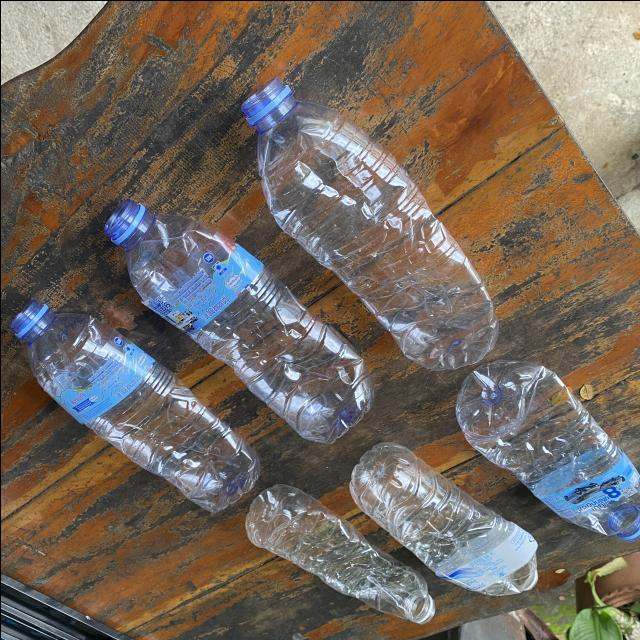plastik: (241, 78, 498, 369), (104, 199, 373, 443), (9, 299, 259, 512), (455, 359, 640, 541), (349, 442, 537, 594), (245, 483, 434, 623)
